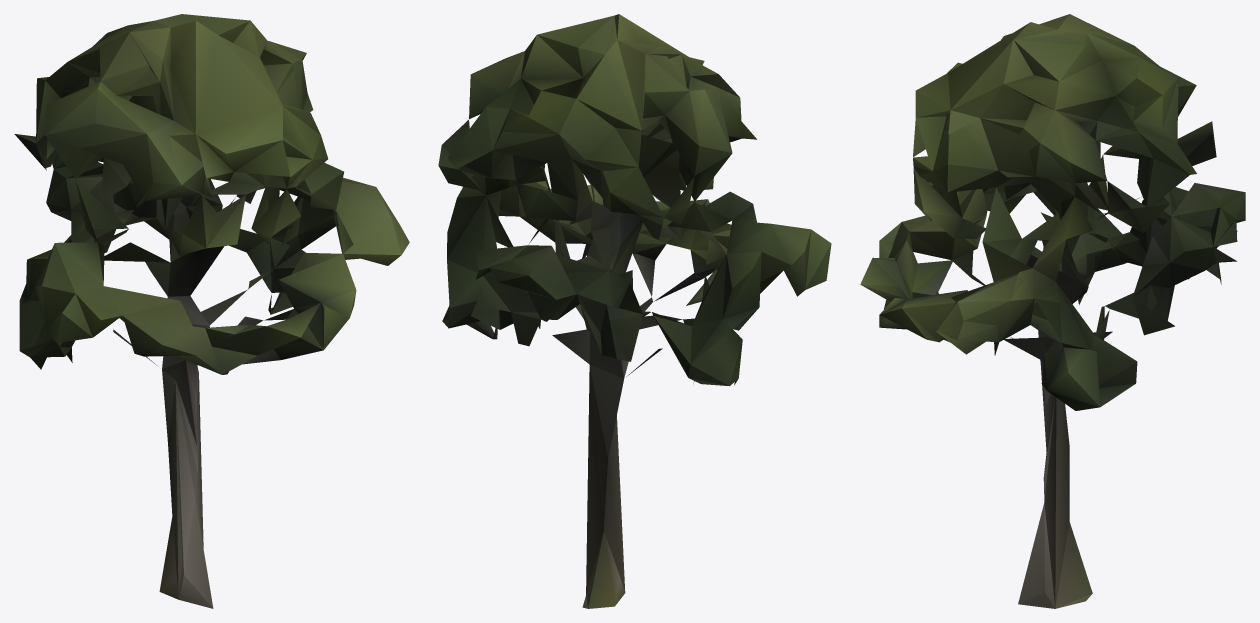
Rendered from tree-broadleaf.glb.
3 views of the same model, side by side, from view 1: azimuth 30°, elevation 25°; view 2: azimuth 150°, elevation 25°; view 3: azimuth 270°, elevation 25° (orthographic).
Size of the model in its own units: 1.24 by 1.98 by 1.2.
